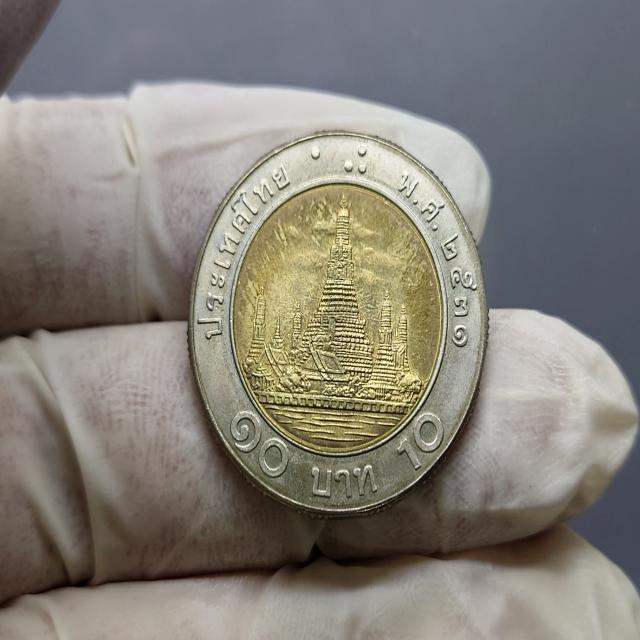10 Bath: (188, 127, 493, 524)
